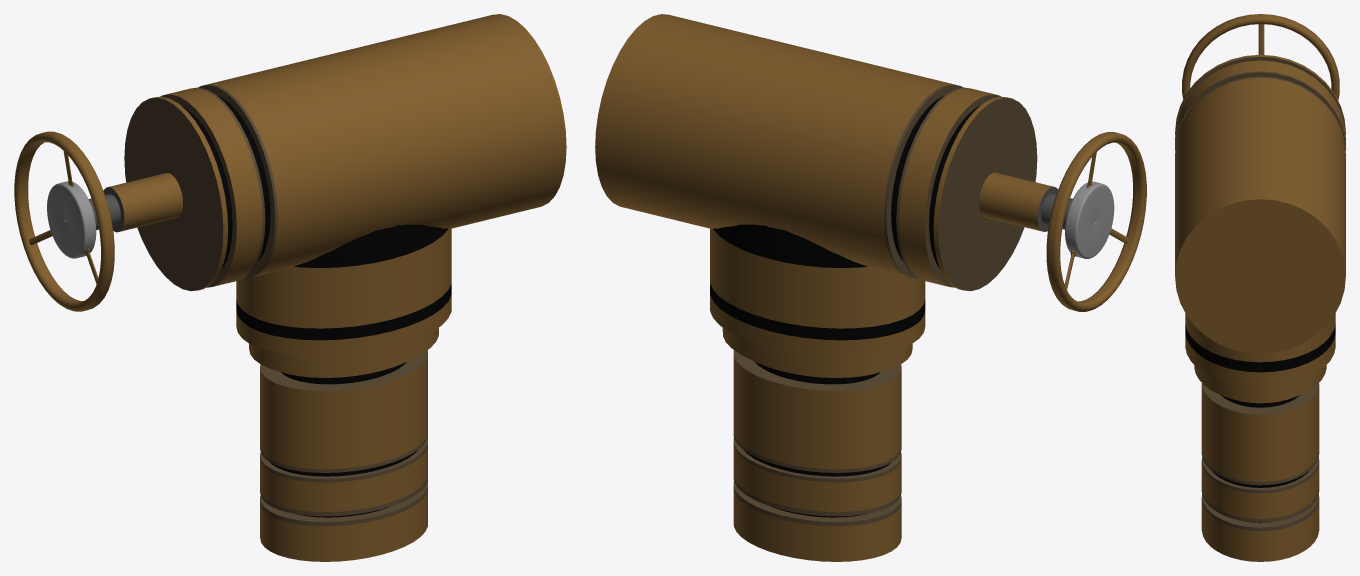
Rendered from Pipe with wheel.fbx.
3 renders of one model, left to right at view 1: azimuth 30°, elevation 25°; view 2: azimuth 150°, elevation 25°; view 3: azimuth 270°, elevation 25°, orthographic. The views are drawn at different scales.
Parts seen in each view (by area): view 1: Cylinder_4; view 2: Cylinder_4; view 3: Cylinder_4.
Boxes of the visible parts, x1,y1,x2,y2 form: Cylinder_4: [14, 14, 566, 561]; Cylinder_4: [595, 14, 1146, 561]; Cylinder_4: [1175, 14, 1345, 561].
Size of the model in its own units: 267 by 260 by 100.
